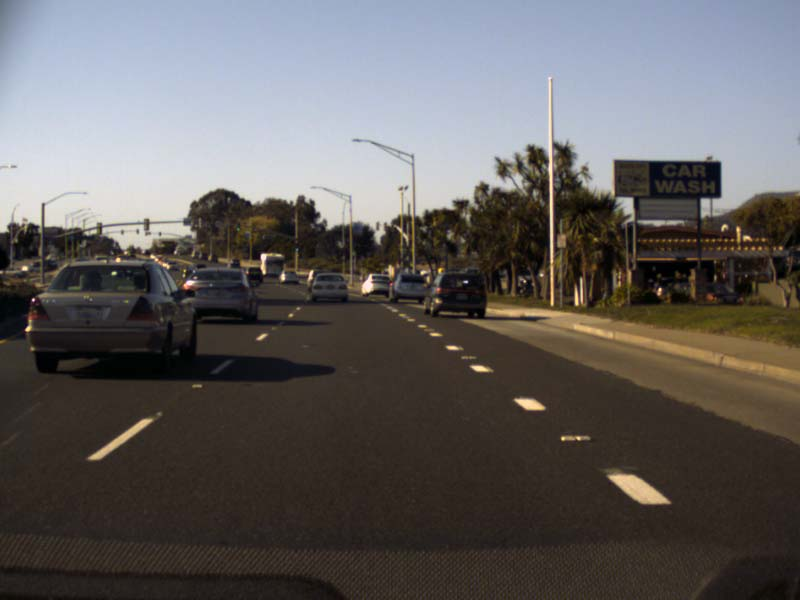Green: (236, 223, 240, 231), (294, 244, 298, 251)
